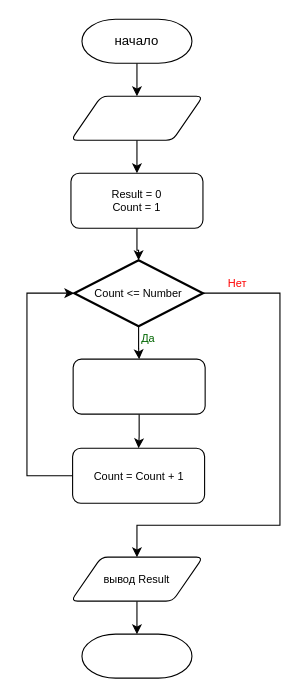
Image size: 308x697. Some labels were removed from this diagram. The shapes that lost their labels are listed below. From the top down, each one's centre as x and y in pixels, then its label:
At point 136,117: "ввод Number (например 10)".
At point 138,386: "Result = Result + Count".
At point 136,655: "конец".
